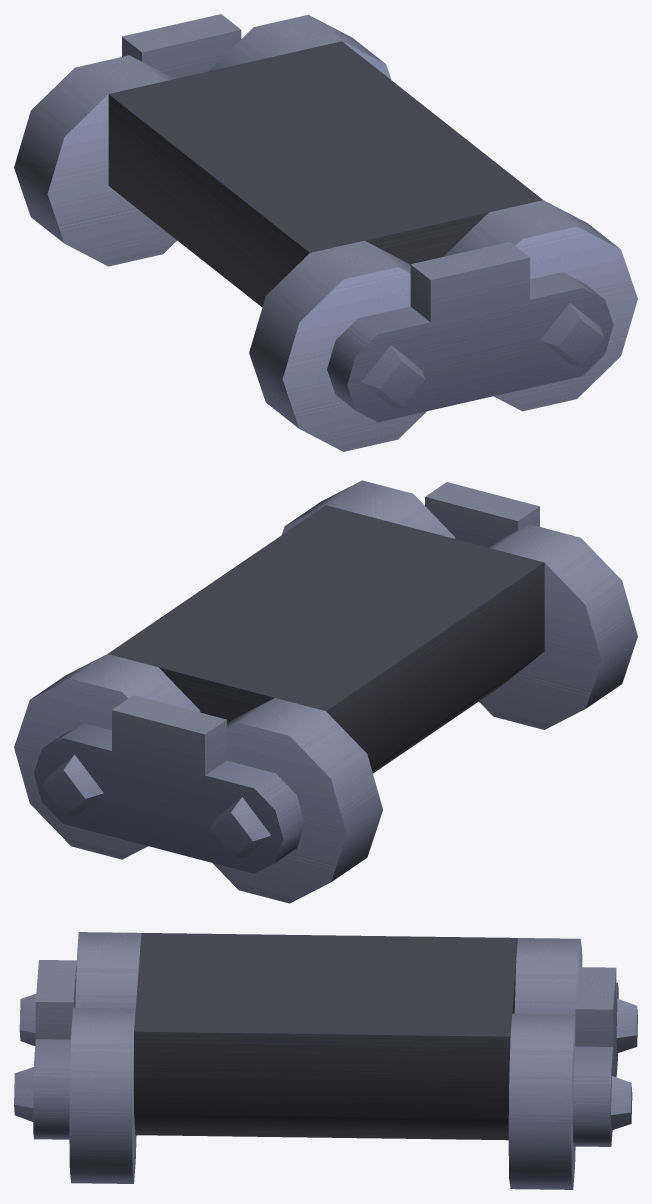
Rendered from wheels-back.002_lev2.glb.
3 views of the same model, one above another, from view 1: azimuth 30°, elevation 25°; view 2: azimuth 150°, elevation 25°; view 3: azimuth 270°, elevation 25° (orthographic). The views are drawn at different scales.
Parts seen in each view (by area): view 1: wheels-back.002_lev2; view 2: wheels-back.002_lev2; view 3: wheels-back.002_lev2.
Boxes of the visible parts, <box> form: wheels-back.002_lev2: <box>14,14,637,451</box>; wheels-back.002_lev2: <box>14,480,637,903</box>; wheels-back.002_lev2: <box>14,932,637,1189</box>.
Size of the model in its own units: 1.32 by 0.5976 by 2.22.
1 material, 1 textured.
